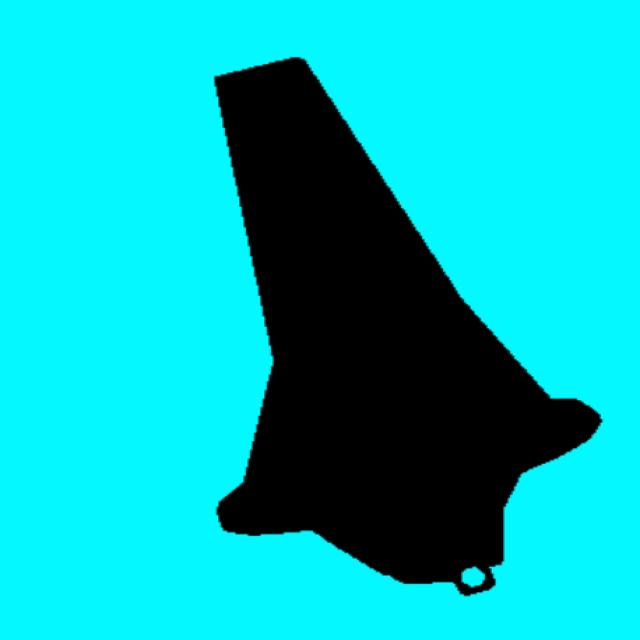BlackBuoy: (217, 58, 599, 594)
